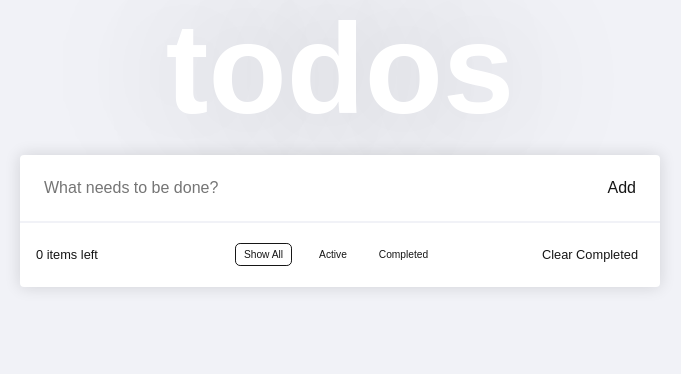
it: adds a new todo
The image size is (681, 374).
In the field with placeholder "What needs to be done?": [318, 188] box [36,170,600,204], type "Test Todo"
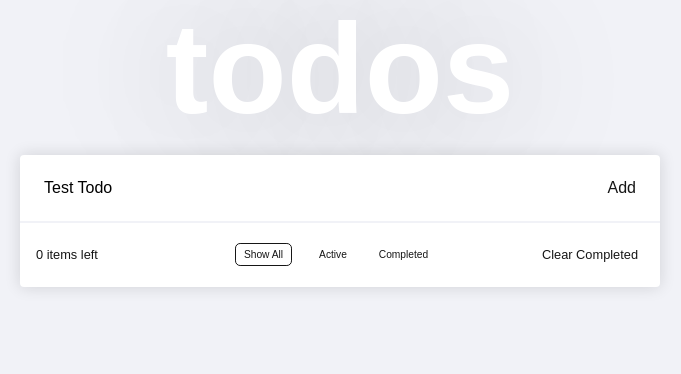
Click the button "Add": [622, 188] box [600,170,644,204]
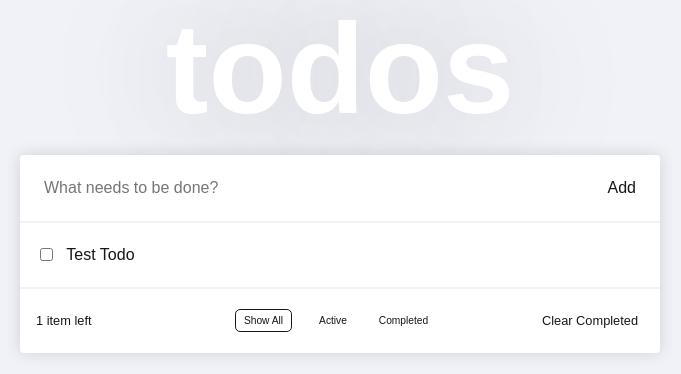
Result: the text "Test Todo" is shown at [66,246,134,262]
